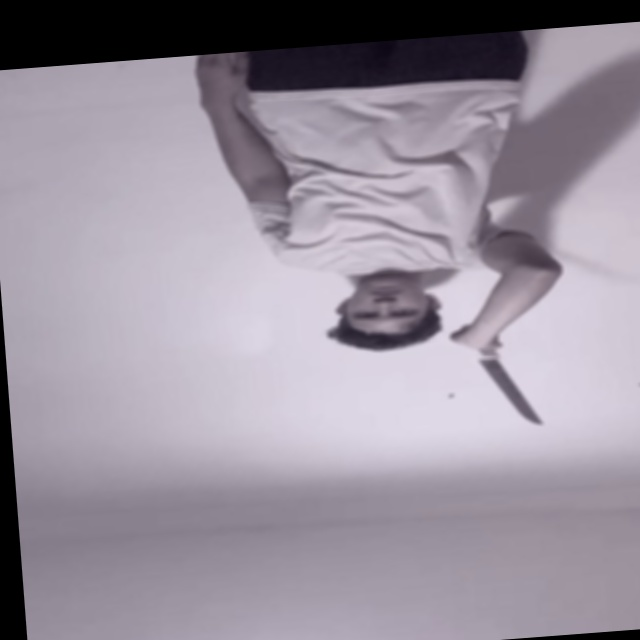Sharp-Object: (477, 354, 546, 432)
